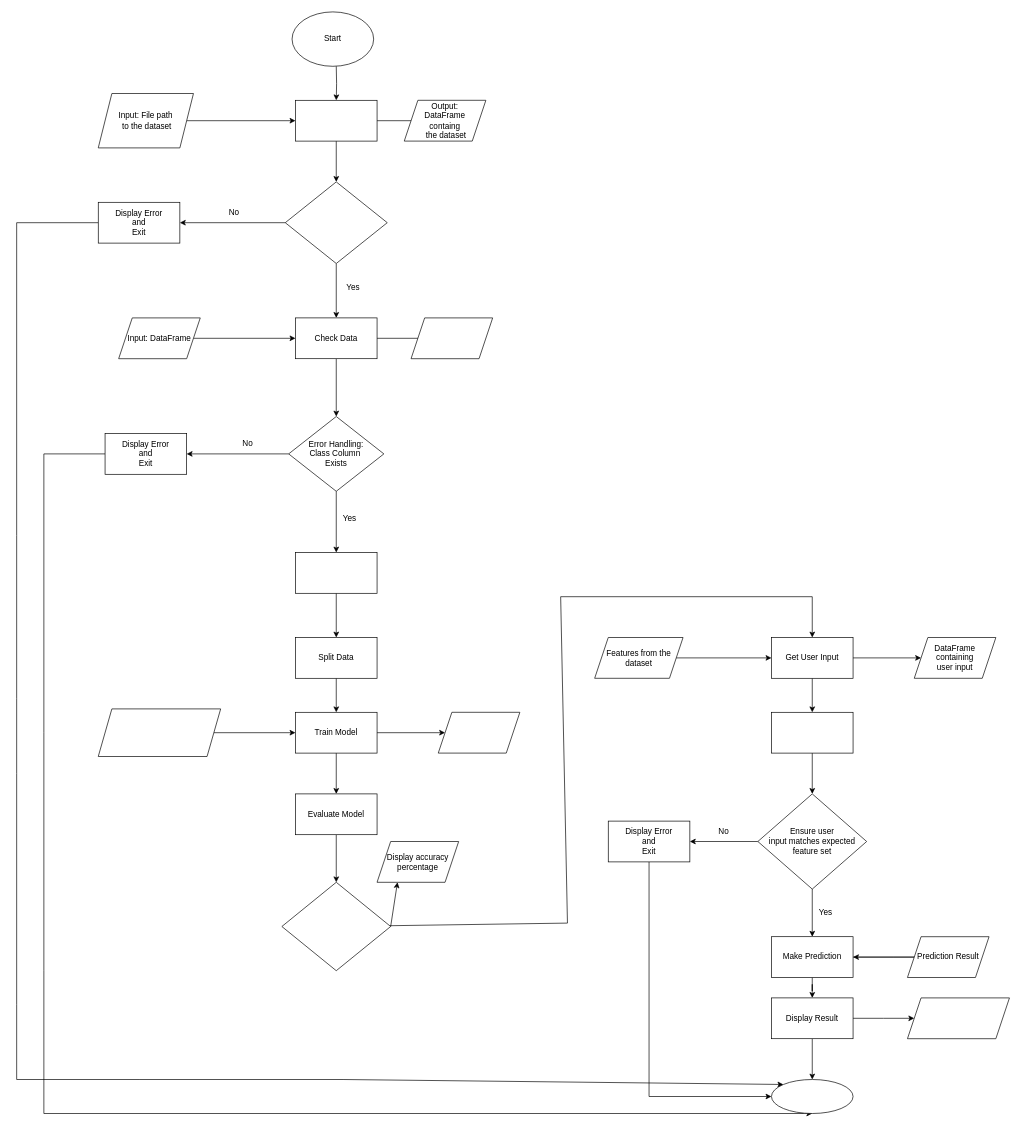
The diagram is 1021 pixels wide and 1131 high, and some of its shapes have lost their labels. The box of each missing label's shape, as (x1, y1, x2, y2) in pixels:
Calculate Accuracy using accuracy_score: (281, 882, 391, 971)
Check User Input: (771, 712, 853, 753)
Confirmation that 'Class' exist: (410, 317, 493, 359)
End: (771, 1079, 853, 1114)
Error Handling: File Found: (285, 181, 387, 264)
Load Data: (295, 100, 377, 141)
Output: Trained Model: (438, 712, 520, 753)
Print whether the transaction is fraudlent or valid: (907, 997, 1009, 1039)
Seperate Features and Target: (295, 552, 377, 593)
Training features('x_train') and target('y_train'): (98, 708, 221, 756)
